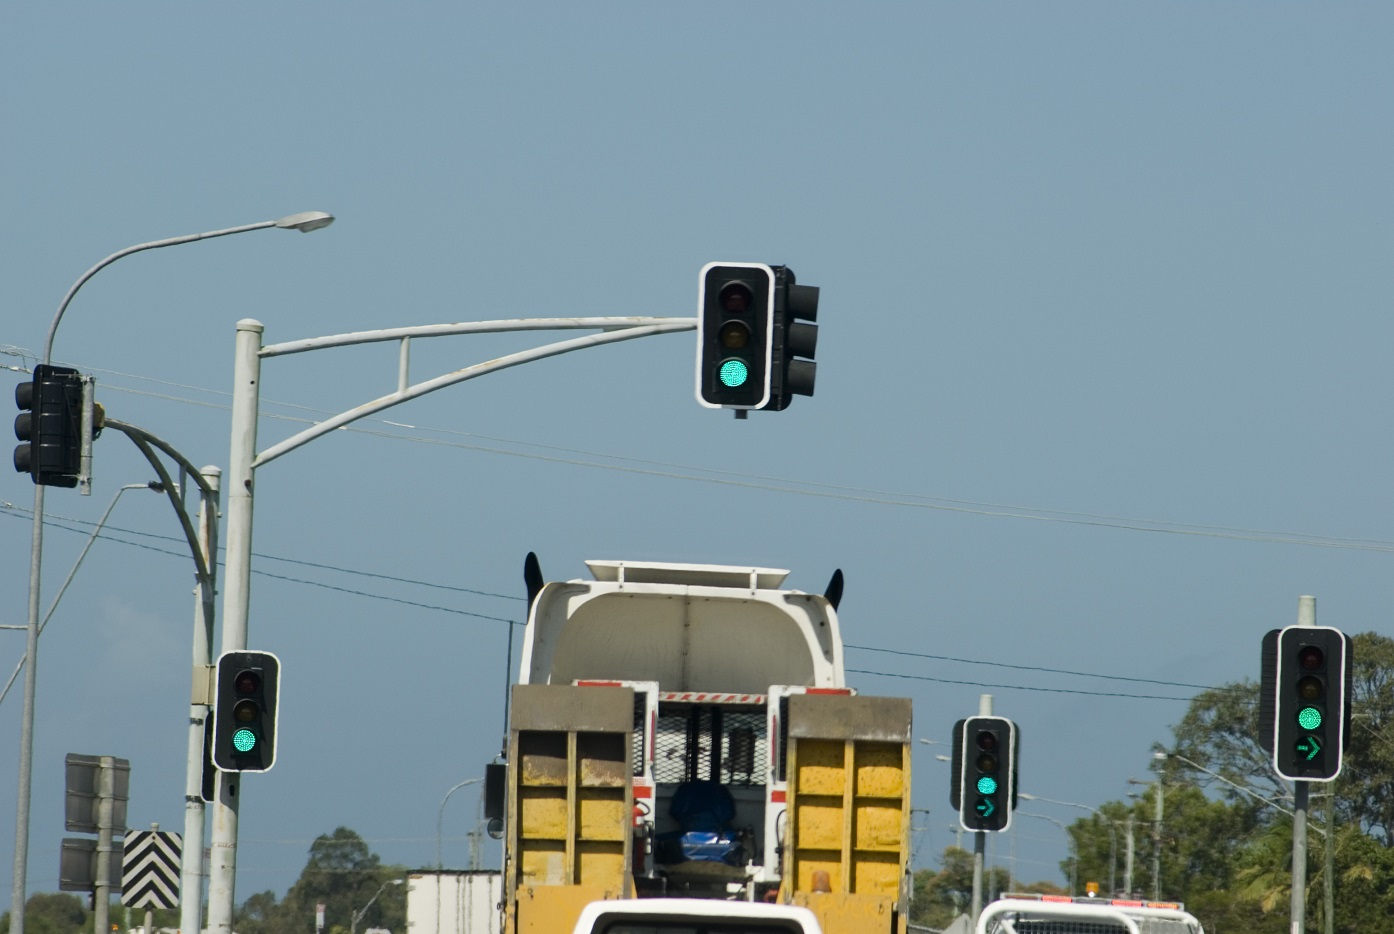traffic_light: (713, 276, 757, 392), (1290, 642, 1330, 767), (230, 665, 265, 759), (972, 728, 1000, 821)
